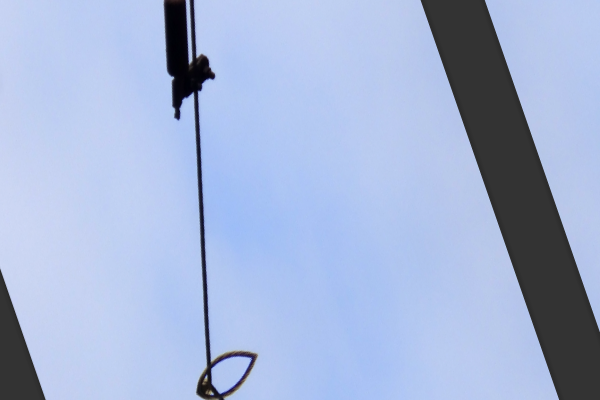damper_defect: (161, 1, 217, 123)
